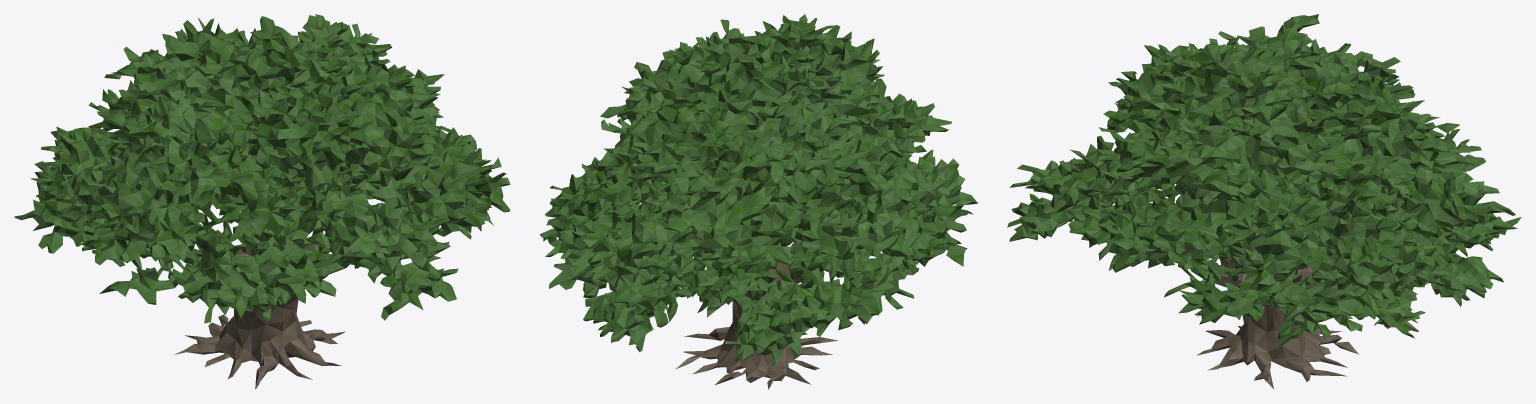
Rendered from hawthorn_tree.glb.
The picture shows the model from 3 angles, left to right: view 1: azimuth 30°, elevation 25°; view 2: azimuth 150°, elevation 25°; view 3: azimuth 270°, elevation 25°; orthographic projection. The views are drawn at different scales.
Visible parts, largest first — view 1: world; view 2: world; view 3: world.
Boxes of the visible parts, <box> form: world: <box>14,14,510,389</box>; world: <box>540,14,977,389</box>; world: <box>1007,14,1521,389</box>.
Bounding box in the file's own units: 4 × 3.2 × 4.78.
